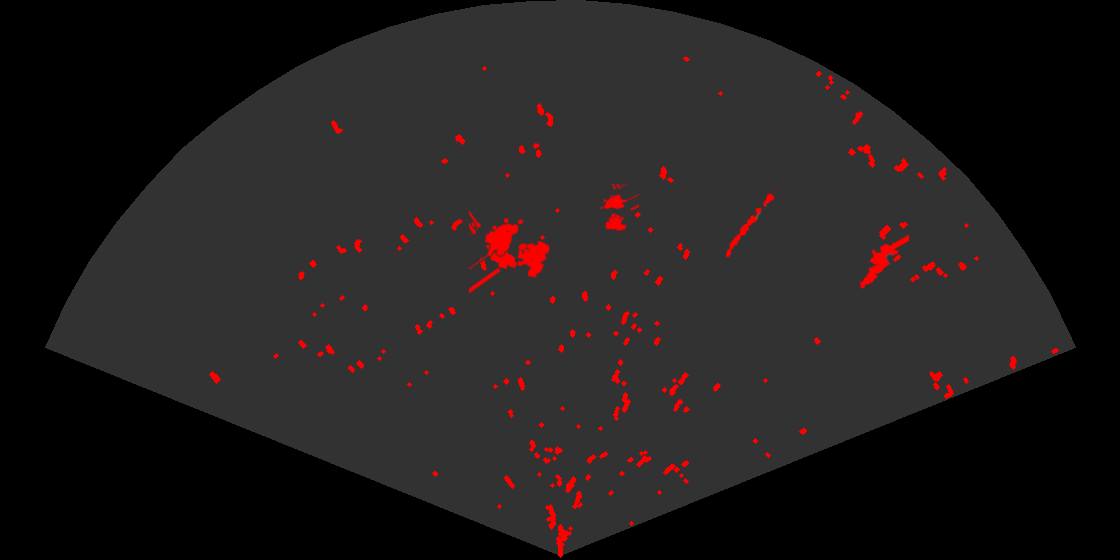AUV: (484, 243, 519, 271)
cage: (469, 208, 552, 296), (598, 184, 639, 233)
chain: (724, 182, 781, 259)
frogman: (858, 234, 909, 290)
